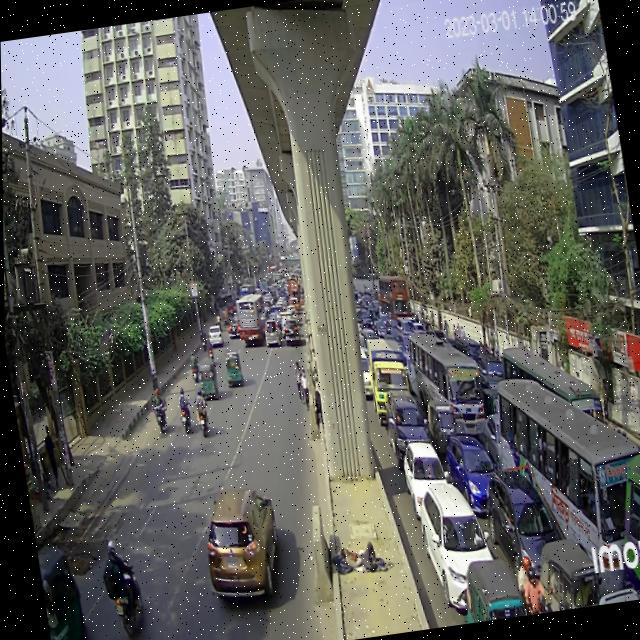cng: (219, 344, 248, 392), (192, 354, 220, 402)
